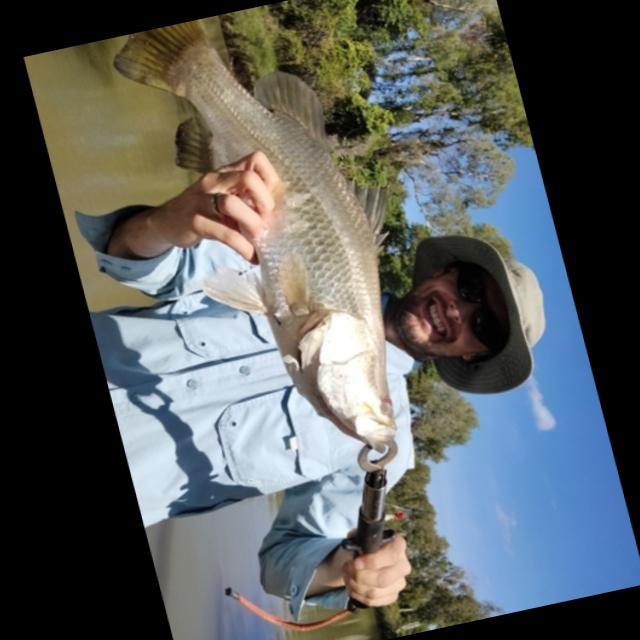Seabass: (105, 0, 457, 485)
